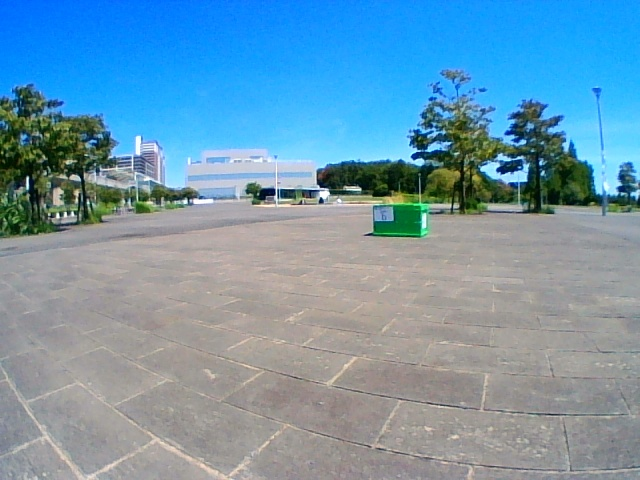green_box: (373, 203, 426, 236)
tag: (374, 206, 393, 220)
